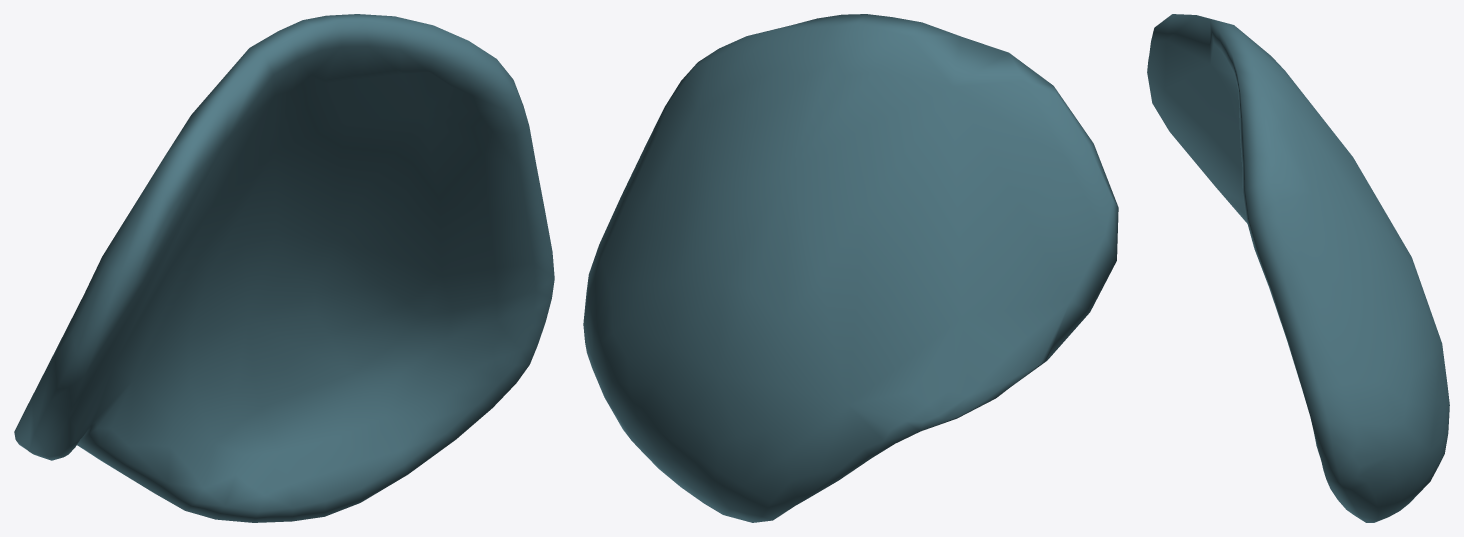
Rendered from Fibularis_brevis_5th_metatarsal_tuberosity_right.glb.
3 renders of one model, left to right at view 1: azimuth 30°, elevation 25°; view 2: azimuth 150°, elevation 25°; view 3: azimuth 270°, elevation 25°, orthographic. The views are drawn at different scales.
Parts seen in each view (by area): view 1: Fibularis_brevis_on_tuberosity_of_fifth_metatarsal_bone.r_Ge; view 2: Fibularis_brevis_on_tuberosity_of_fifth_metatarsal_bone.r_Ge; view 3: Fibularis_brevis_on_tuberosity_of_fifth_metatarsal_bone.r_Ge.
Boxes of the visible parts, x1,y1,x2,y2 form: Fibularis_brevis_on_tuberosity_of_fifth_metatarsal_bone.r_Ge: (14,14,554,522); Fibularis_brevis_on_tuberosity_of_fifth_metatarsal_bone.r_Ge: (583,14,1118,522); Fibularis_brevis_on_tuberosity_of_fifth_metatarsal_bone.r_Ge: (1147,14,1449,522).
Bounding box in the file's own units: 0.00628 × 0.00595 × 0.0037.
